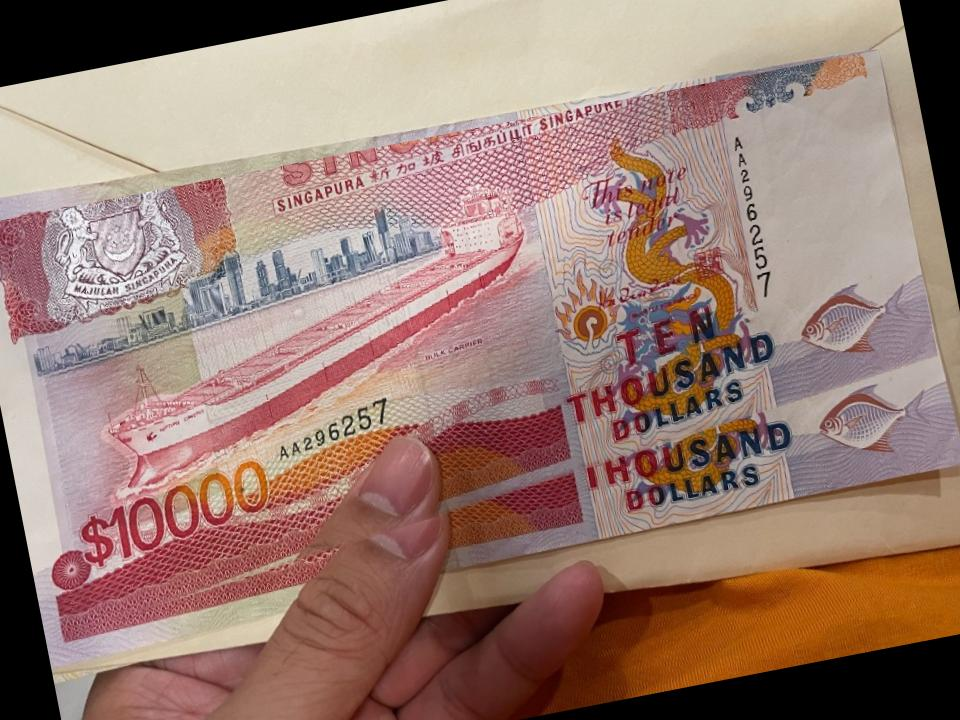10000SingaporeDollar: (0, 49, 958, 641)
